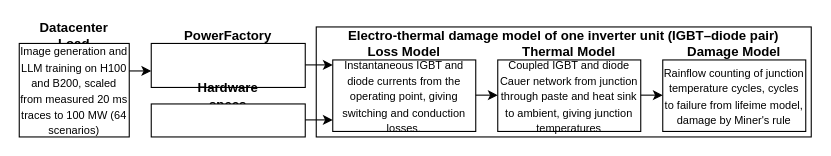
The diagram is 831 pixels wide and 156 high, and some of its shapes have lost their labels. The box of each missing label's shape, as (x1, y1, x2, y2) in pixels:
Infineon FF1800R23IE7, Fischer LA 10 150 24 heat sink: (150, 103, 305, 137)
Modified IEEE 9-bus system with a grid-forming inverter and data center load: (150, 42, 305, 87)
